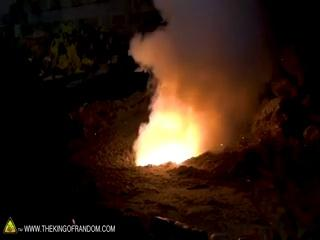Fire: (135, 83, 212, 165)
